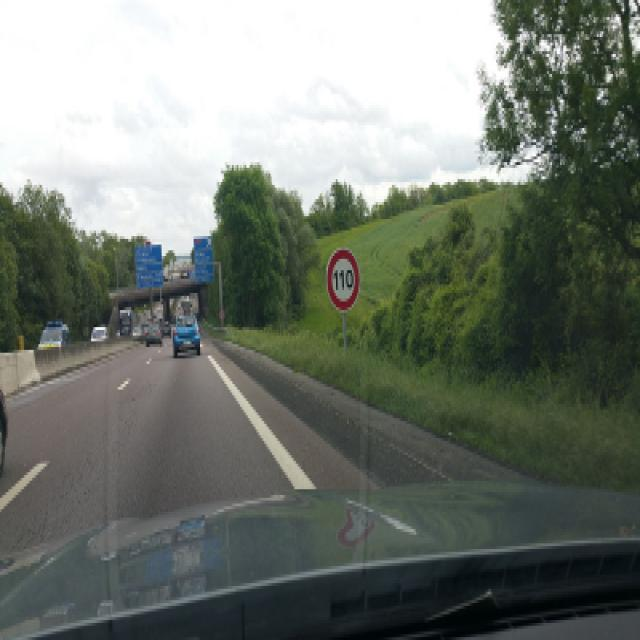indication: (135, 244, 163, 286), (194, 238, 214, 282)
speed_110: (326, 246, 361, 314)
